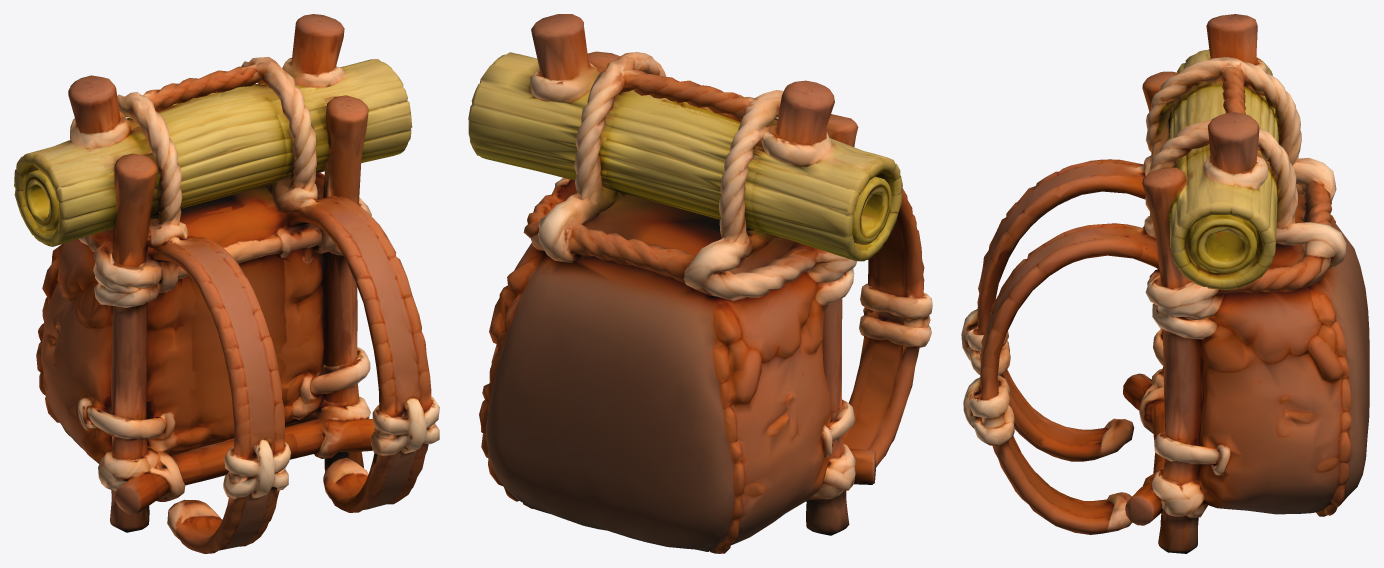
Rendered from primitive_backpack_optimized.glb.
The picture shows the model from 3 angles, left to right: view 1: azimuth 30°, elevation 25°; view 2: azimuth 150°, elevation 25°; view 3: azimuth 270°, elevation 25°; orthographic projection. The views are drawn at different scales.
Parts seen in each view (by area): view 1: node_0; view 2: node_0; view 3: node_0.
Part boxes in pixels (bbox=[...]): node_0: bbox=[14, 14, 439, 553]; node_0: bbox=[468, 14, 932, 553]; node_0: bbox=[961, 14, 1369, 553].
Size of the model in its own units: 0.8417 by 0.9979 by 0.8523.
1 material, 1 textured.
